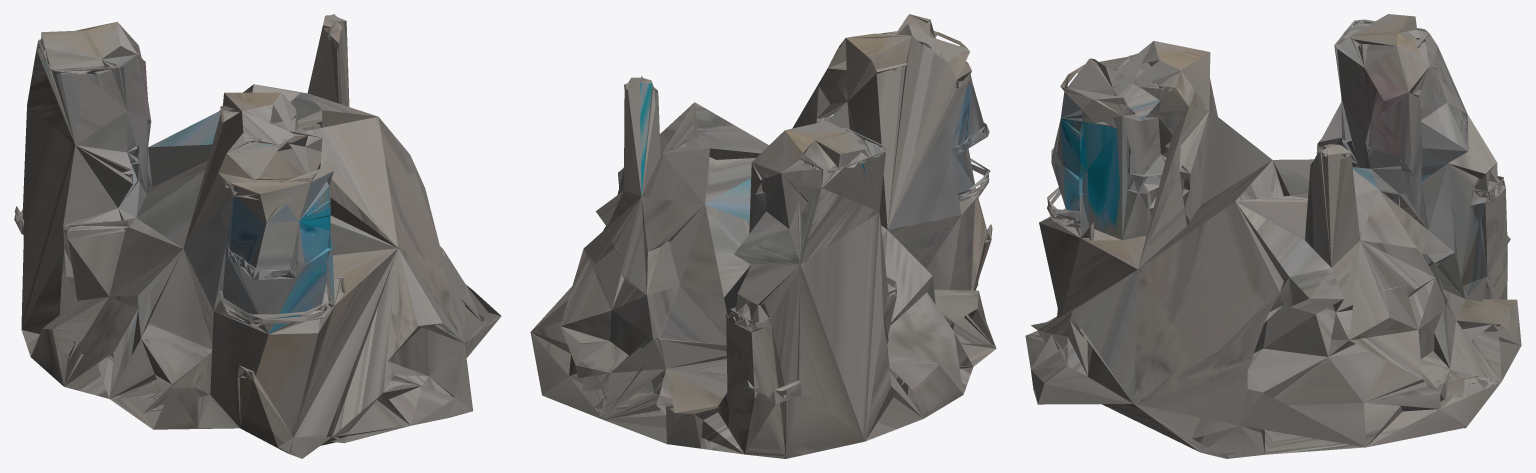
3 views of the same model, side by side, from view 1: azimuth 30°, elevation 25°; view 2: azimuth 150°, elevation 25°; view 3: azimuth 270°, elevation 25° (orthographic). The views are drawn at different scales.
Parts seen in each view (by area): view 1: k11; view 2: k11; view 3: k11.
Part boxes in pixels (x1,y1,x2,y2): k11: [14, 14, 501, 458]; k11: [530, 14, 996, 458]; k11: [1025, 14, 1521, 458].
Size of the model in its own units: 15.86 by 11.27 by 17.62.
1 material, 1 textured.
